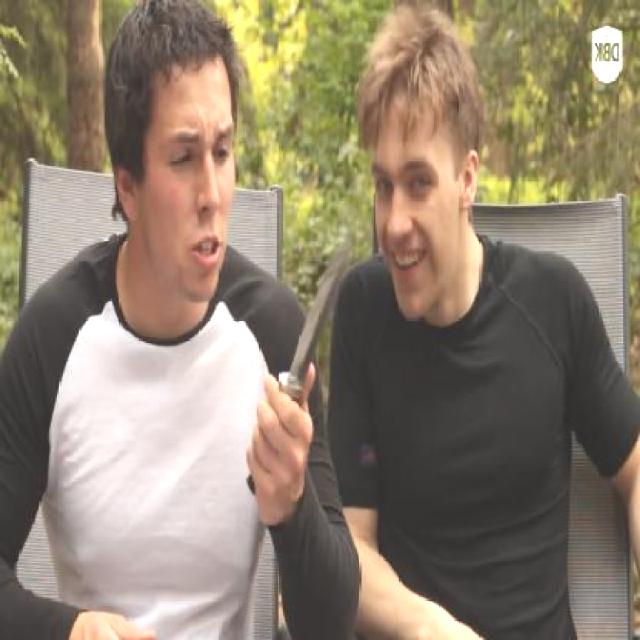knife: (246, 215, 359, 457)
